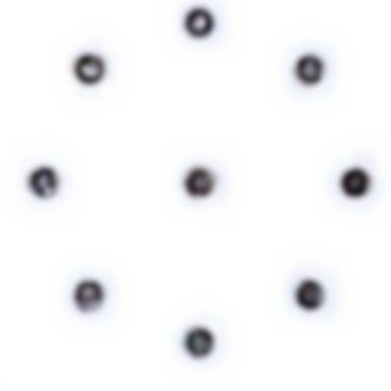cancer: (276, 35, 355, 110), (275, 264, 350, 324), (59, 264, 127, 330), (14, 148, 81, 211), (56, 43, 123, 103), (316, 156, 385, 213), (169, 311, 233, 370), (171, 1, 236, 51), (178, 156, 235, 211)
